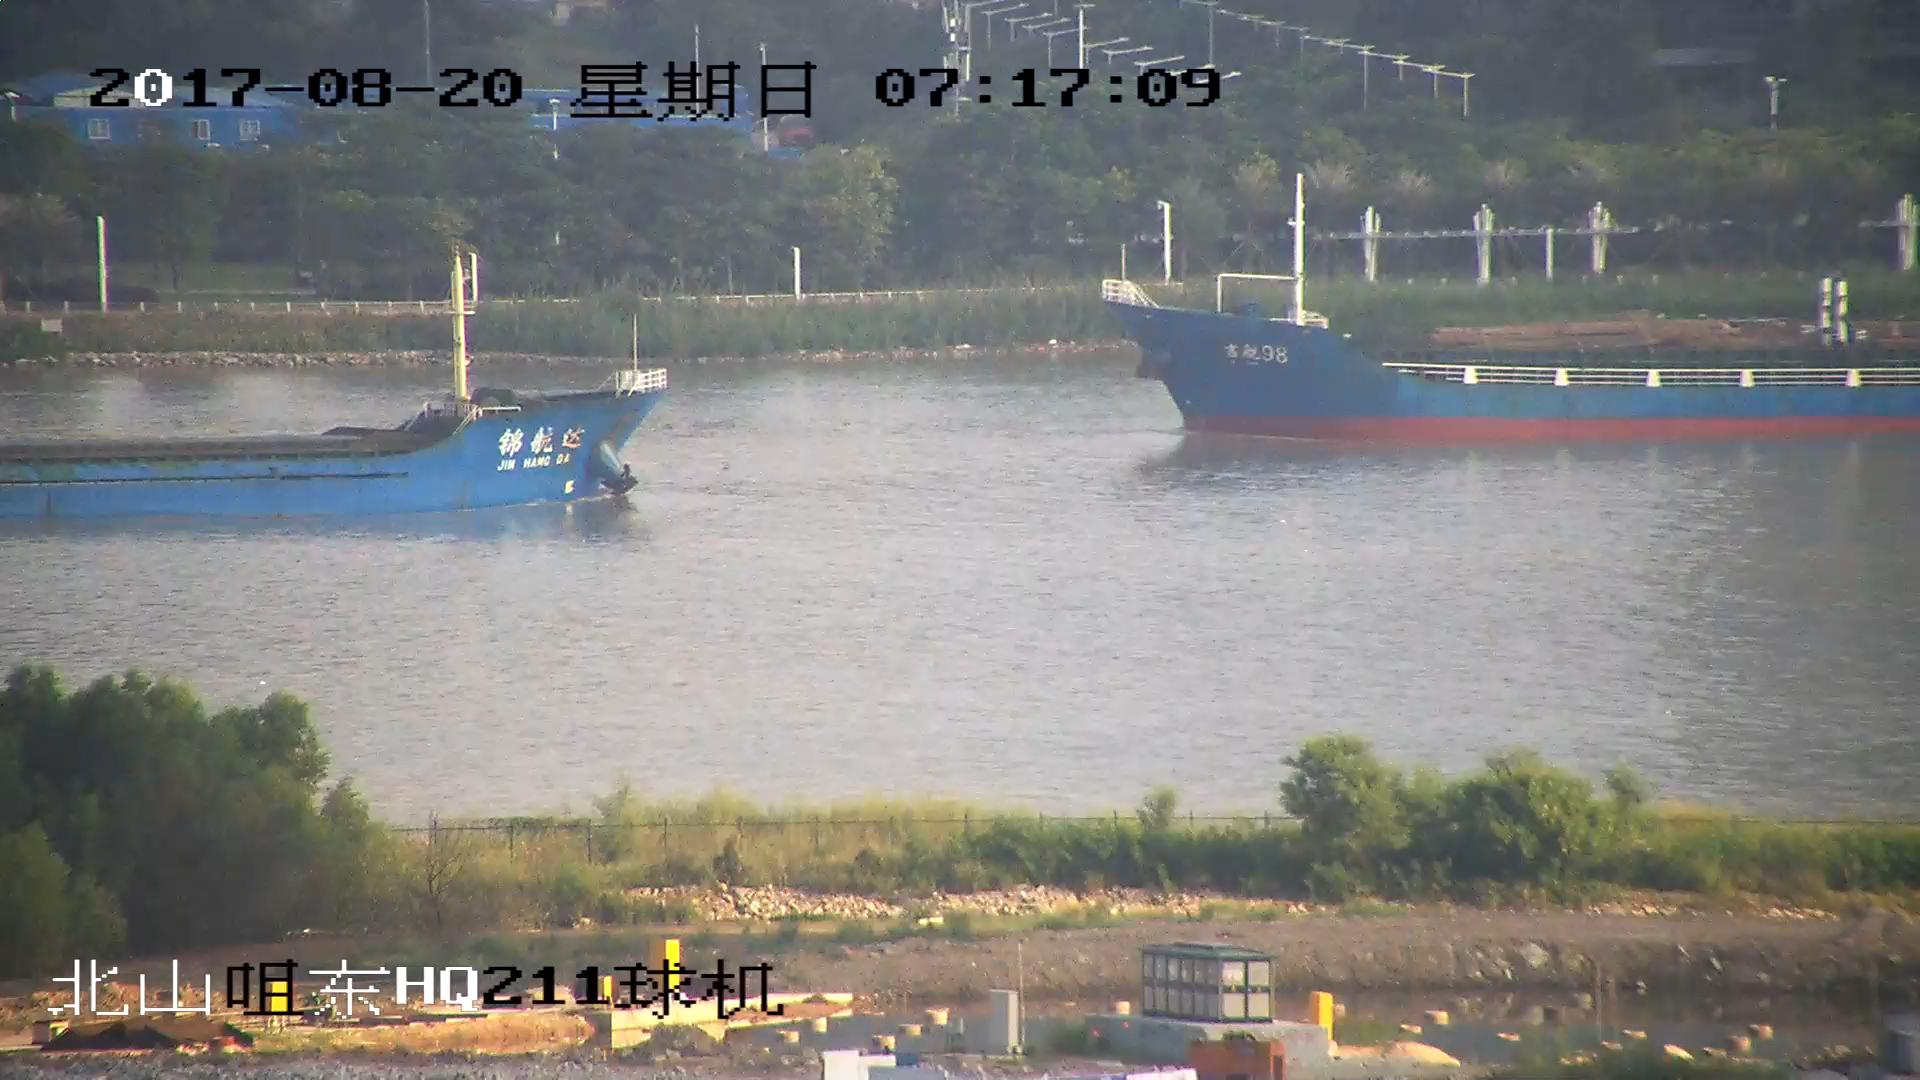general cargo ship: (1111, 182, 1920, 442), (1, 284, 663, 520)
